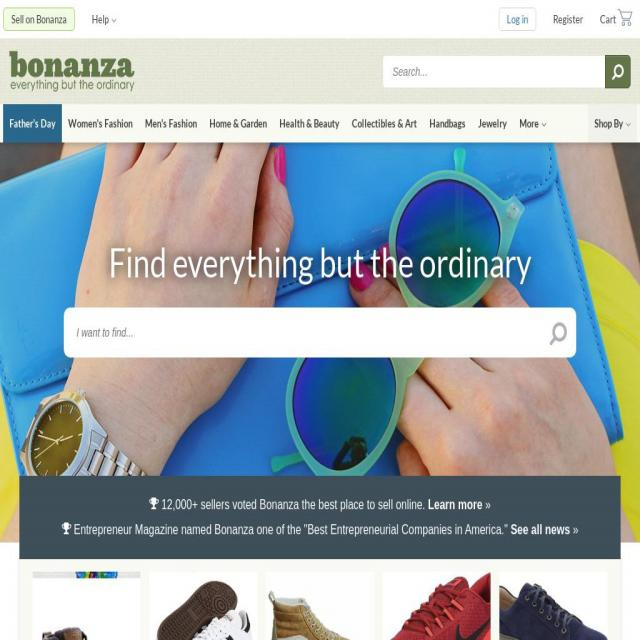login-option: (499, 5, 531, 33)
navigation-links: (5, 105, 635, 143)
options: (515, 107, 553, 143)
search: (58, 302, 582, 368), (378, 50, 632, 93), (88, 10, 122, 33)
sign-up-option: (550, 8, 586, 30)
